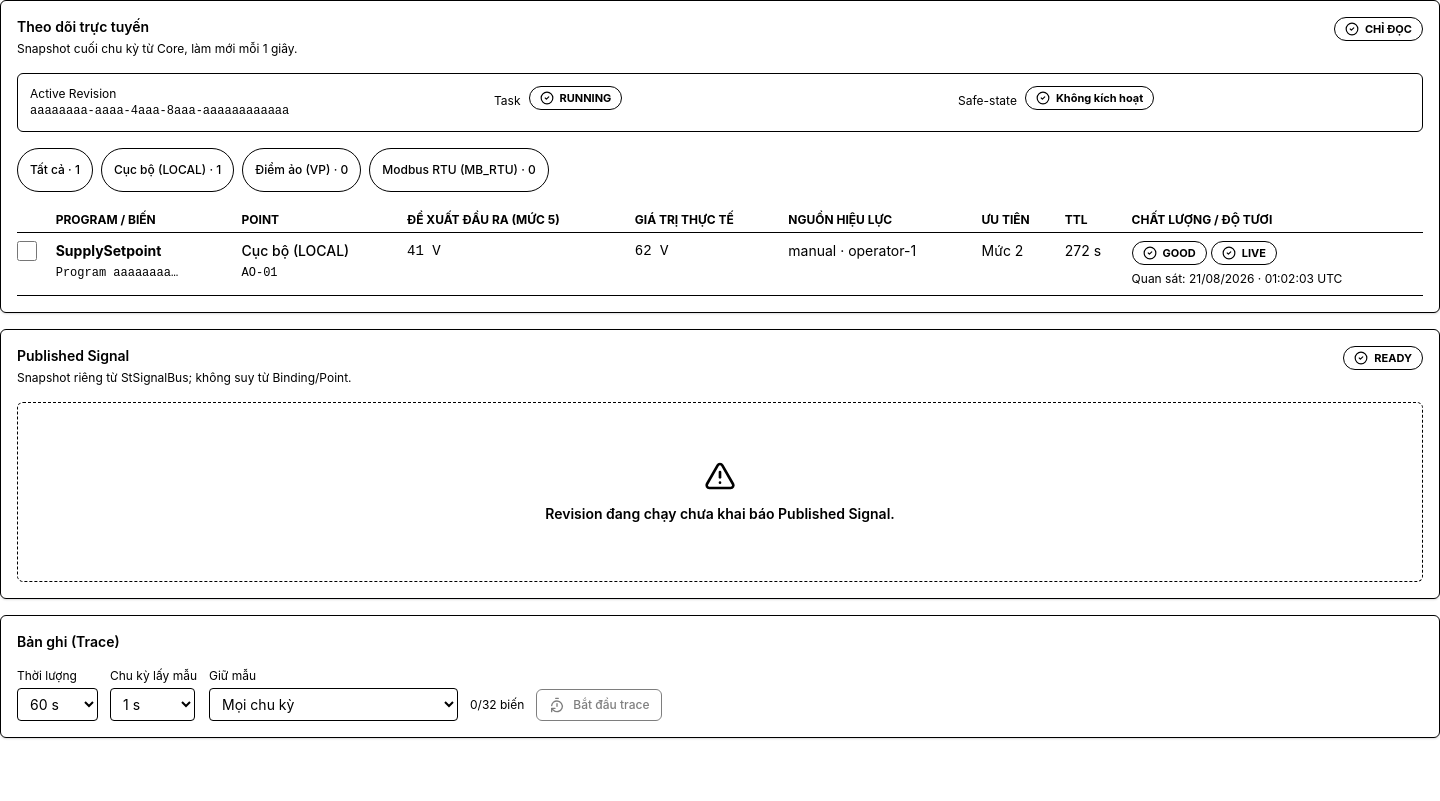
Test: WatchTab — T59-504 › hiện số mẫu rơi và trace giữ null invalid là chưa có dữ liệu
Step 1. Click the checkbox named "Trace SupplySetpoint" → (27, 251), box [17,241,37,261]
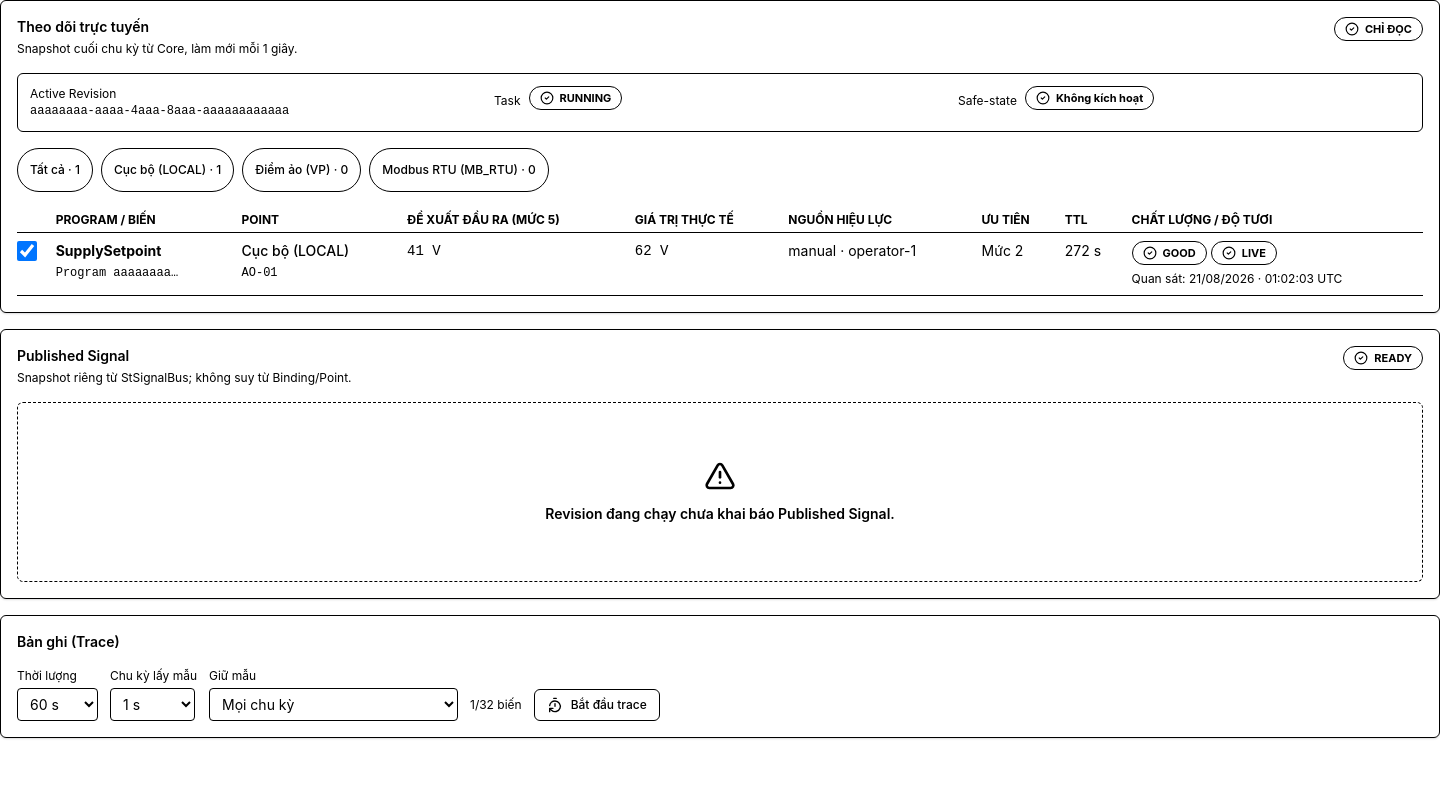
Step 2. Click the button "Bắt đầu trace" → (597, 705), box [534,689,660,721]
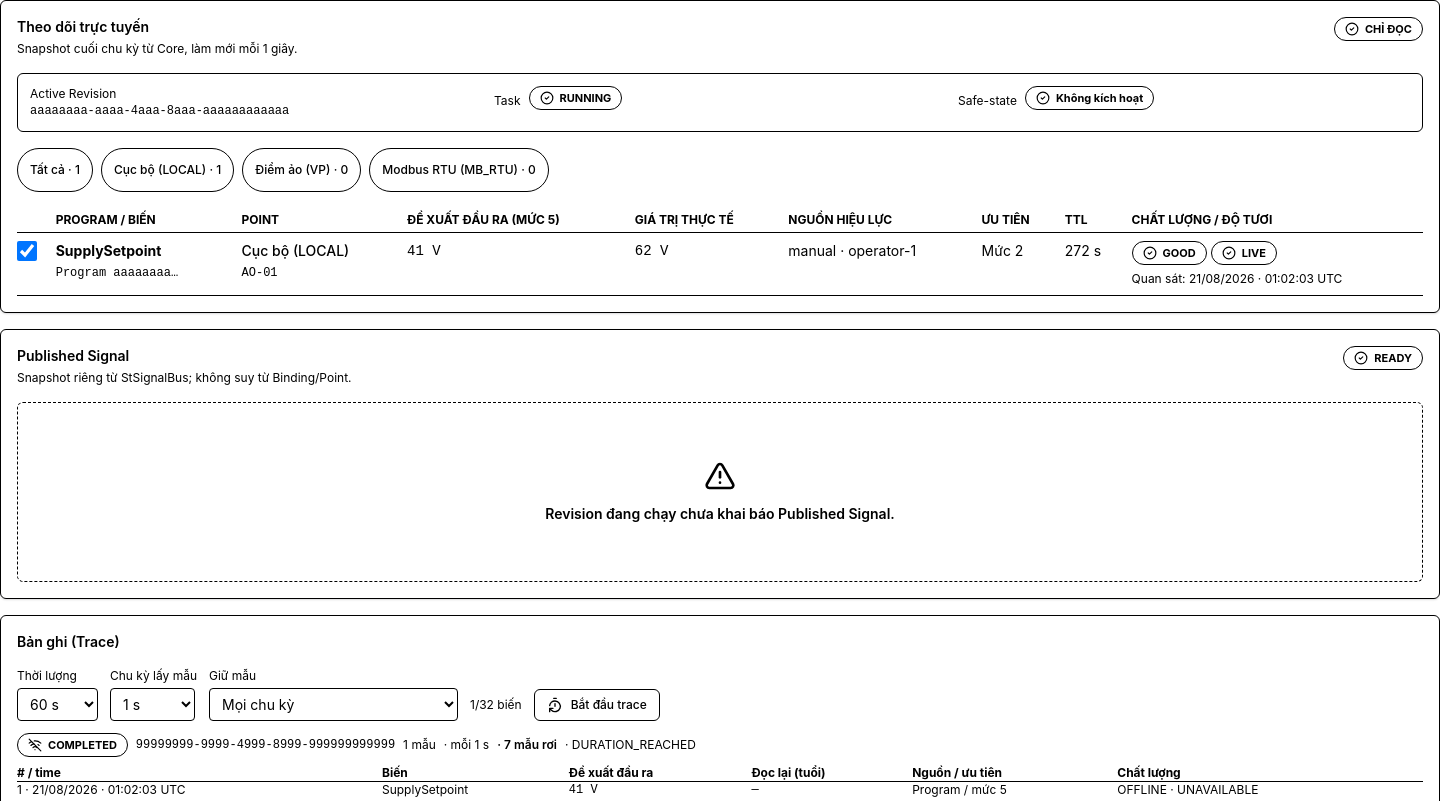
Expected: the text named "Không có dữ liệu" is shown, [751,783,759,797]
Expected: the text "· 7 mẫu rơi" is shown, [497,737,557,753]
